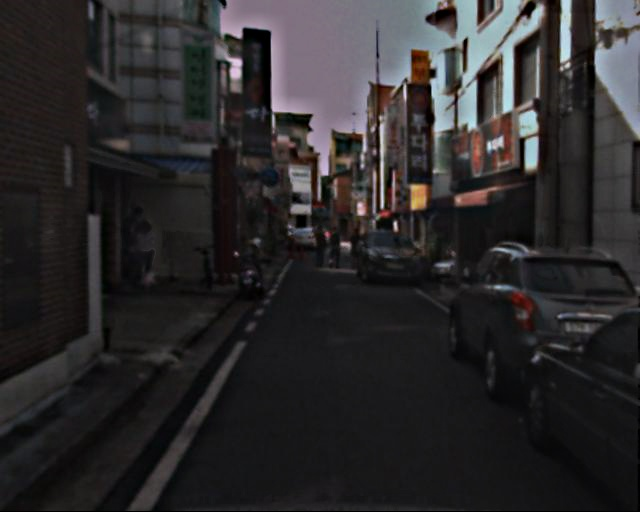person: (131, 211, 161, 284), (326, 225, 345, 271), (349, 227, 367, 272), (313, 226, 330, 268)
